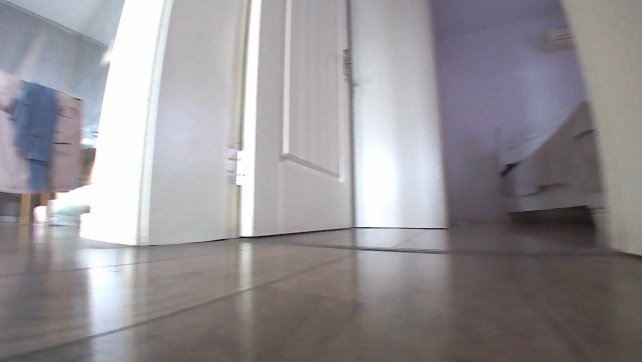bed1: (488, 93, 602, 229)
door_anno: (224, 0, 359, 242)
